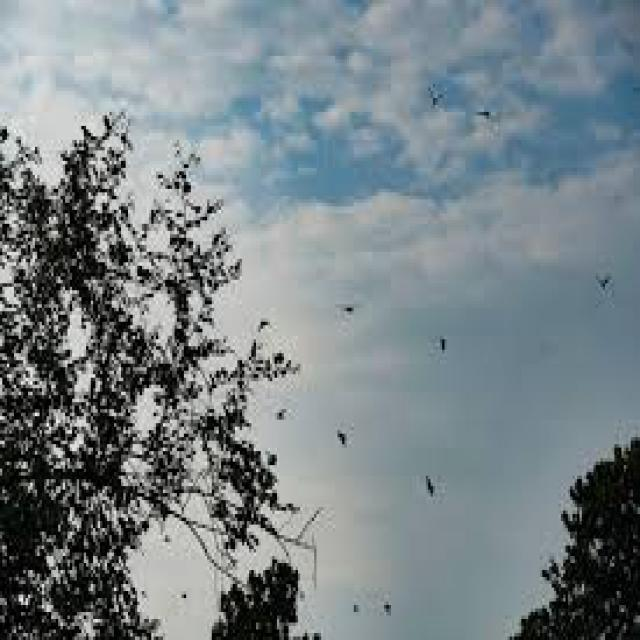bird: (412, 44, 472, 120), (319, 390, 368, 463), (416, 451, 456, 525), (332, 266, 359, 329), (592, 243, 620, 299), (430, 304, 452, 364), (479, 91, 496, 150)
